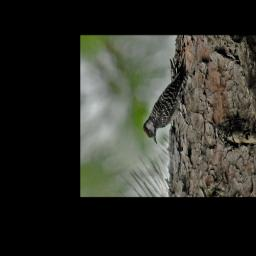Woodpecker: (143, 62, 189, 148)
